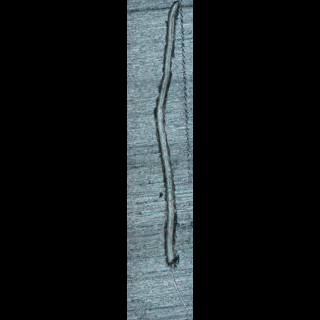d: (152, 0, 185, 272)
